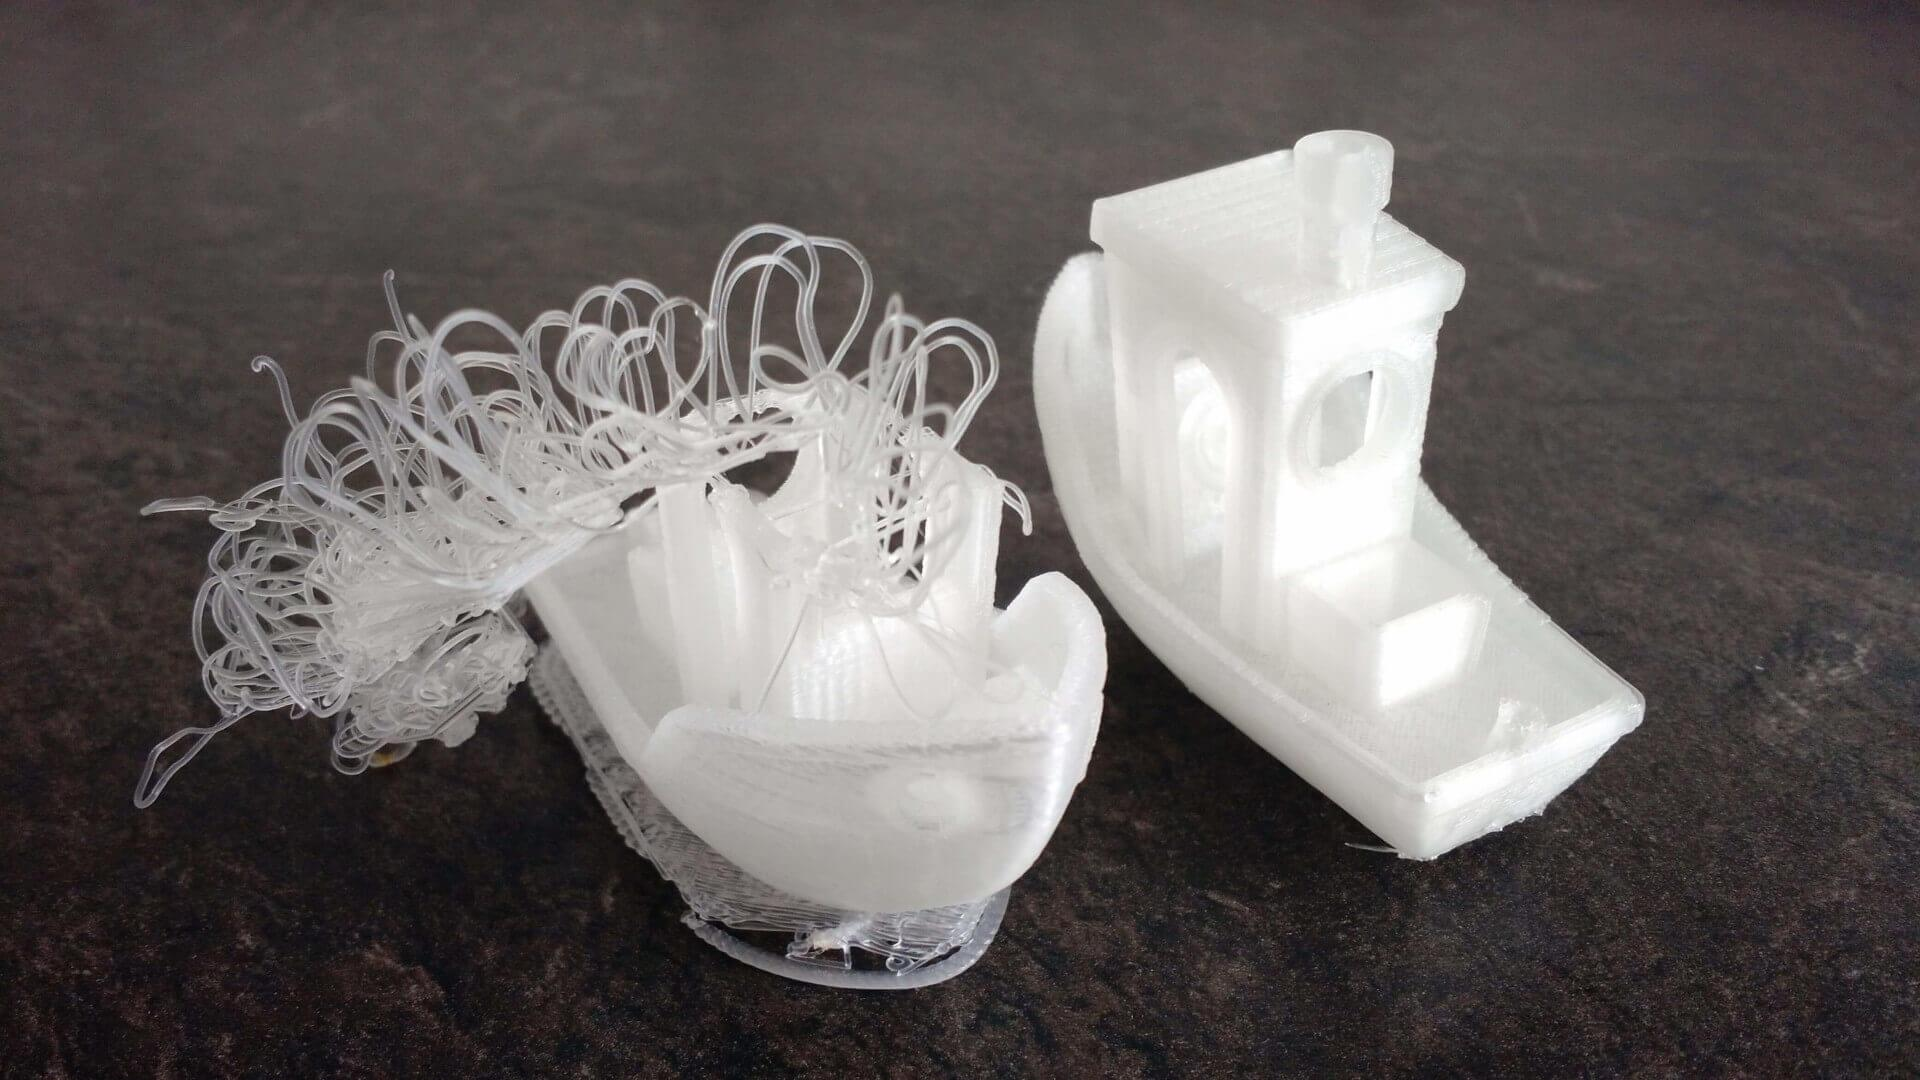Printing-Artifact: (103, 204, 1026, 815)
